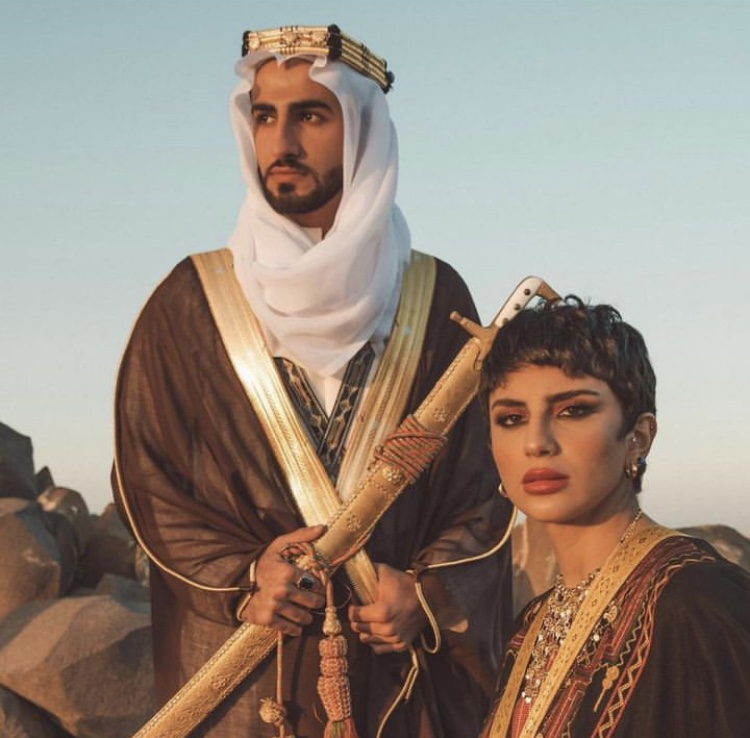Saudi_Founding_Day: (106, 18, 519, 737), (480, 305, 750, 738)
